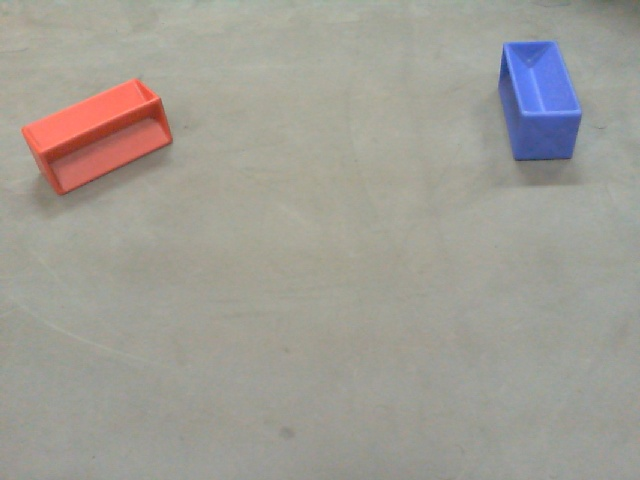BlueSample: (496, 36, 585, 169)
RedSample: (18, 78, 177, 200)
